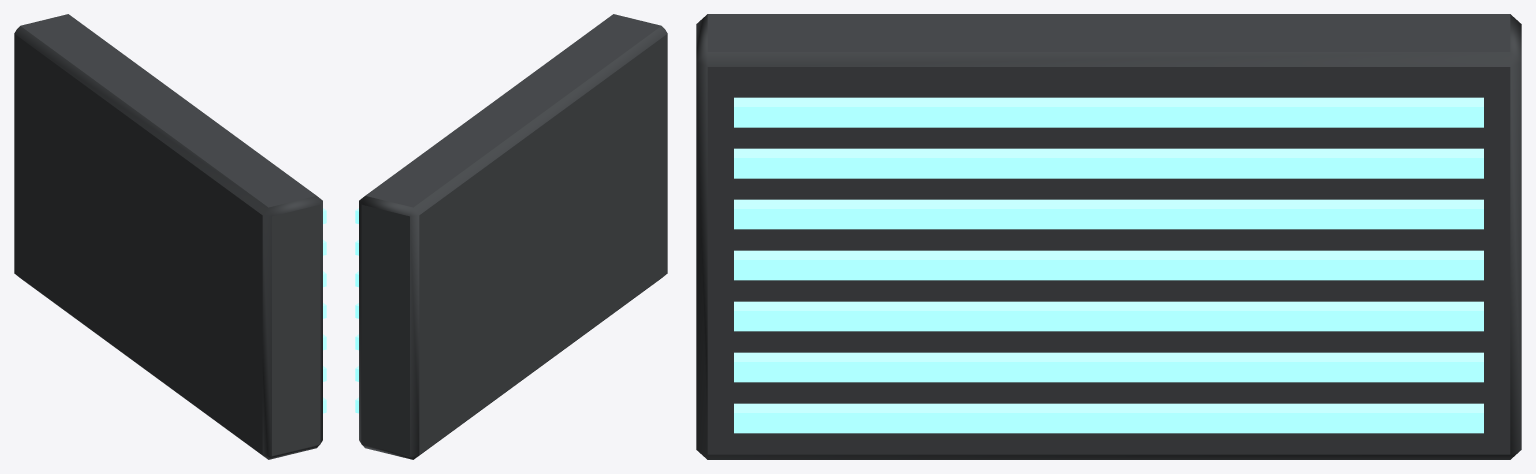
Rendered from heavy_vent.glb.
3 renders of one model, left to right at view 1: azimuth 30°, elevation 25°; view 2: azimuth 150°, elevation 25°; view 3: azimuth 270°, elevation 25°, orthographic. The views are drawn at different scales.
Parts seen in each view (by area): view 1: heavy_vent; view 2: heavy_vent; view 3: heavy_vent.
Part boxes in pixels (x1,y1,x2,y2): heavy_vent: [14, 14, 326, 459]; heavy_vent: [355, 14, 667, 459]; heavy_vent: [696, 14, 1521, 459].
Bounding box in the file's own units: 0.144 × 0.48 × 0.88.
